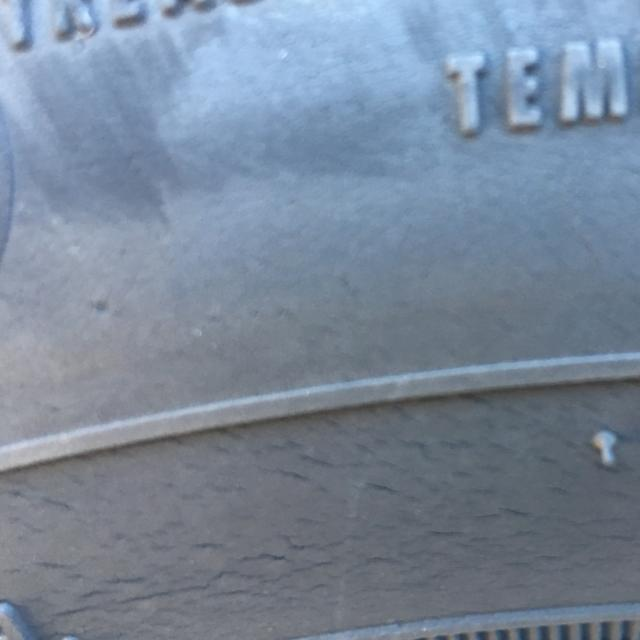Cracks: (0, 378, 640, 640)
